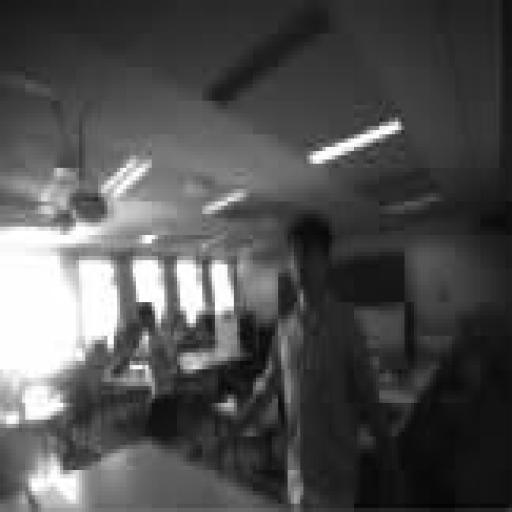human: (222, 215, 401, 507), (130, 300, 178, 442)
